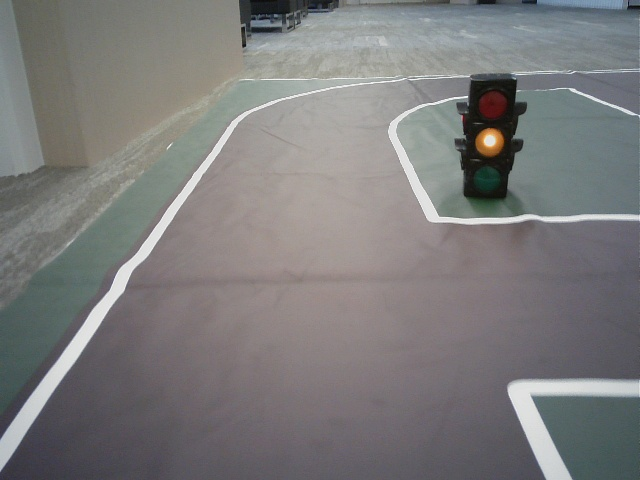yellow: (469, 82, 509, 190)
